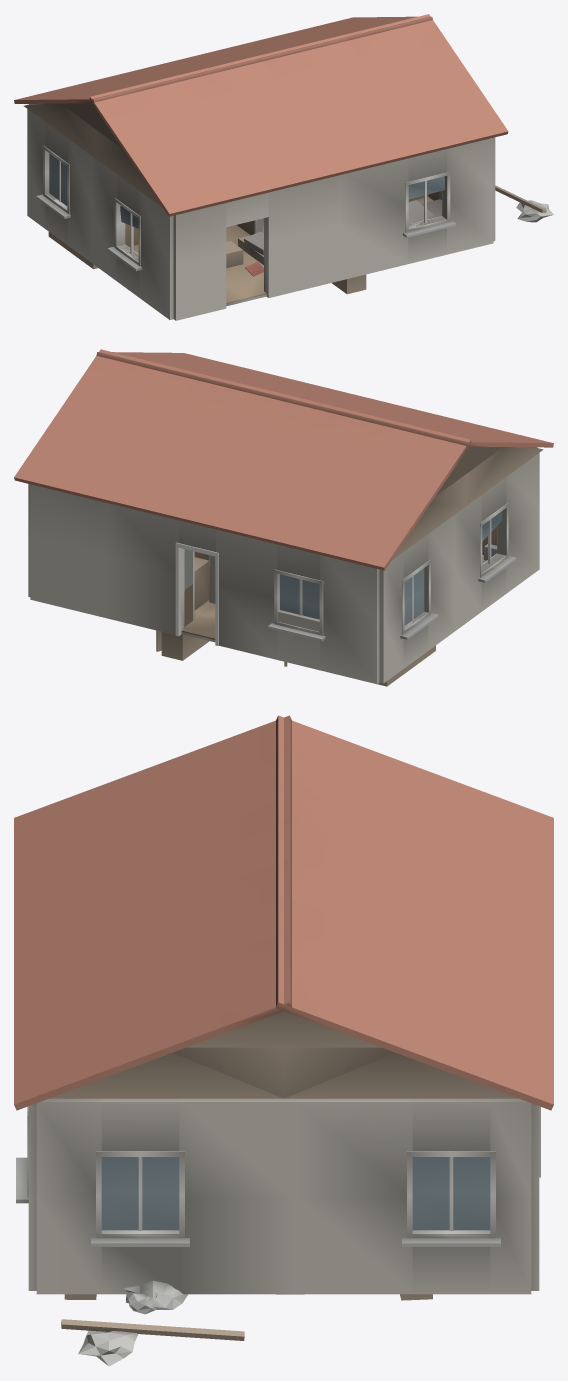
File: casa_r1.glb
The picture shows the model from 3 angles, top to bottom: view 1: azimuth 30°, elevation 25°; view 2: azimuth 150°, elevation 25°; view 3: azimuth 270°, elevation 25°; orthographic projection. The views are drawn at different scales.
Visible parts, largest first — view 1: longe, ext, detalhe, dentro, cama_quarto11, tv_sala, guarda_roupa_quarto1, mesa_centro_sala; view 2: longe, ext, detalhe, dentro, guarda_roupa_quarto2; view 3: longe, ext, detalhe.
Boxes of the visible parts, x1,y1,x2,y2 form: longe: (14, 14, 508, 216); ext: (27, 104, 495, 320); detalhe: (36, 145, 553, 271); dentro: (125, 191, 442, 306); cama_quarto11: (408, 191, 441, 223); tv_sala: (238, 231, 263, 264); guarda_roupa_quarto1: (332, 274, 366, 294); mesa_centro_sala: (226, 241, 243, 268); longe: (14, 349, 553, 570); ext: (28, 447, 539, 684); detalhe: (175, 503, 516, 645); dentro: (181, 526, 497, 642); guarda_roupa_quarto2: (156, 557, 209, 660); longe: (14, 715, 553, 1110); ext: (28, 1098, 539, 1294); detalhe: (16, 1106, 540, 1366).
Size of what is drawn, in the model's own units: 11.56 by 5.59 by 7.64.
